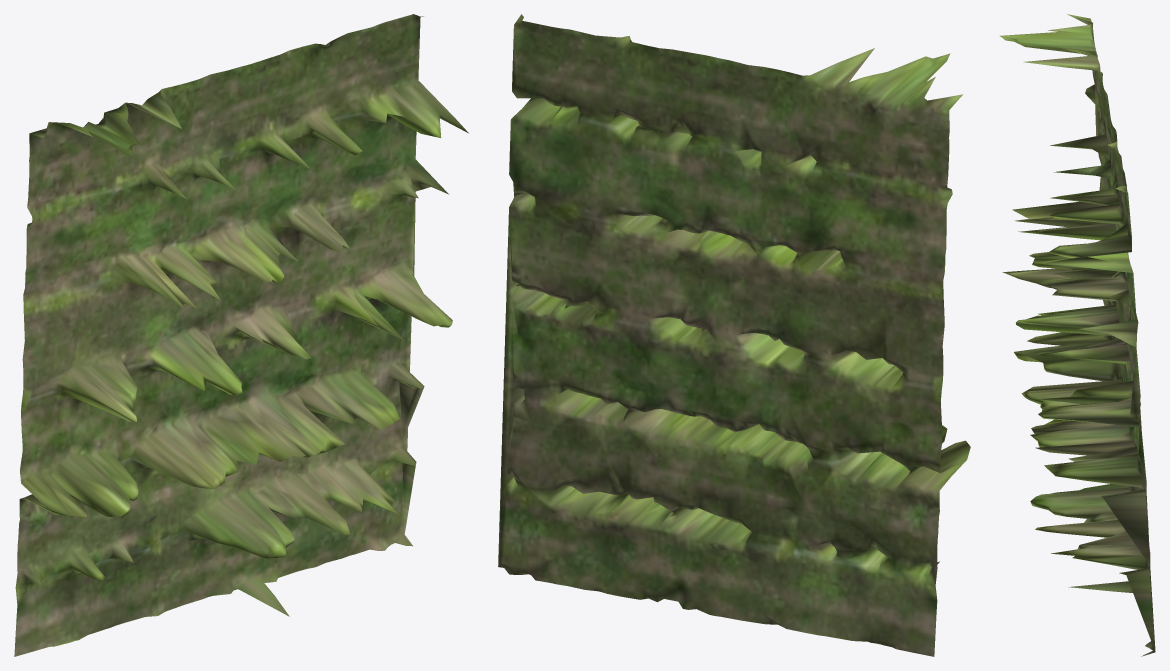
The model's file is map_140_100.obj.
3 views of the same model, side by side, from view 1: azimuth 30°, elevation 25°; view 2: azimuth 150°, elevation 25°; view 3: azimuth 270°, elevation 25° (orthographic). The views are drawn at different scales.
Size of the model in its own units: 8 by 10 by 3.02.
Materials: 1 (1 with a texture image).
